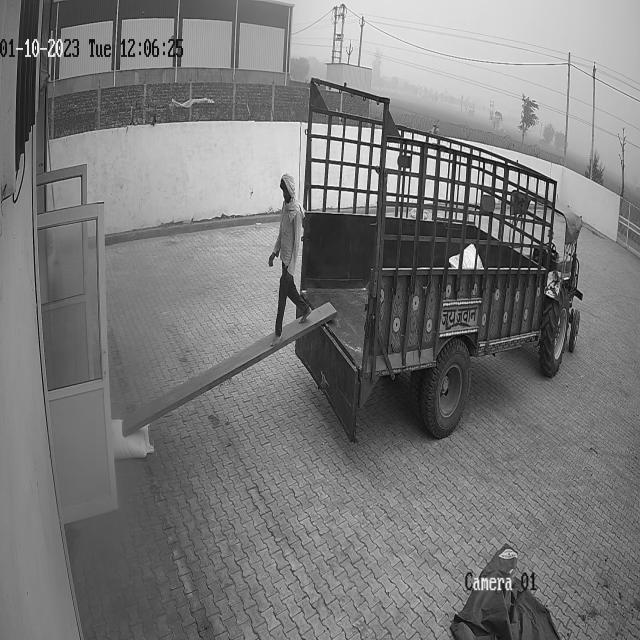sack: (110, 416, 153, 460)
